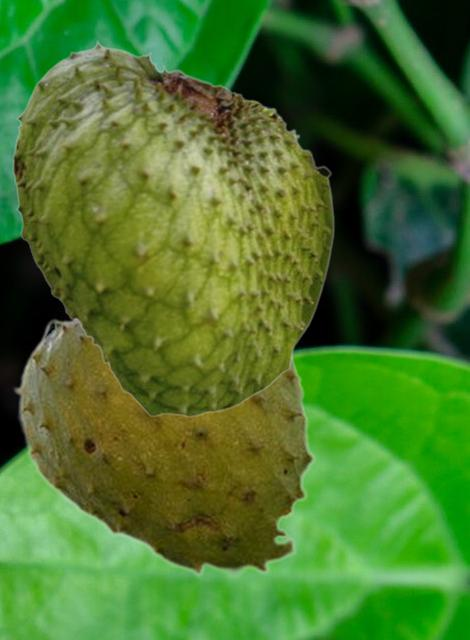guyabano: (12, 39, 334, 417), (12, 315, 315, 580)
